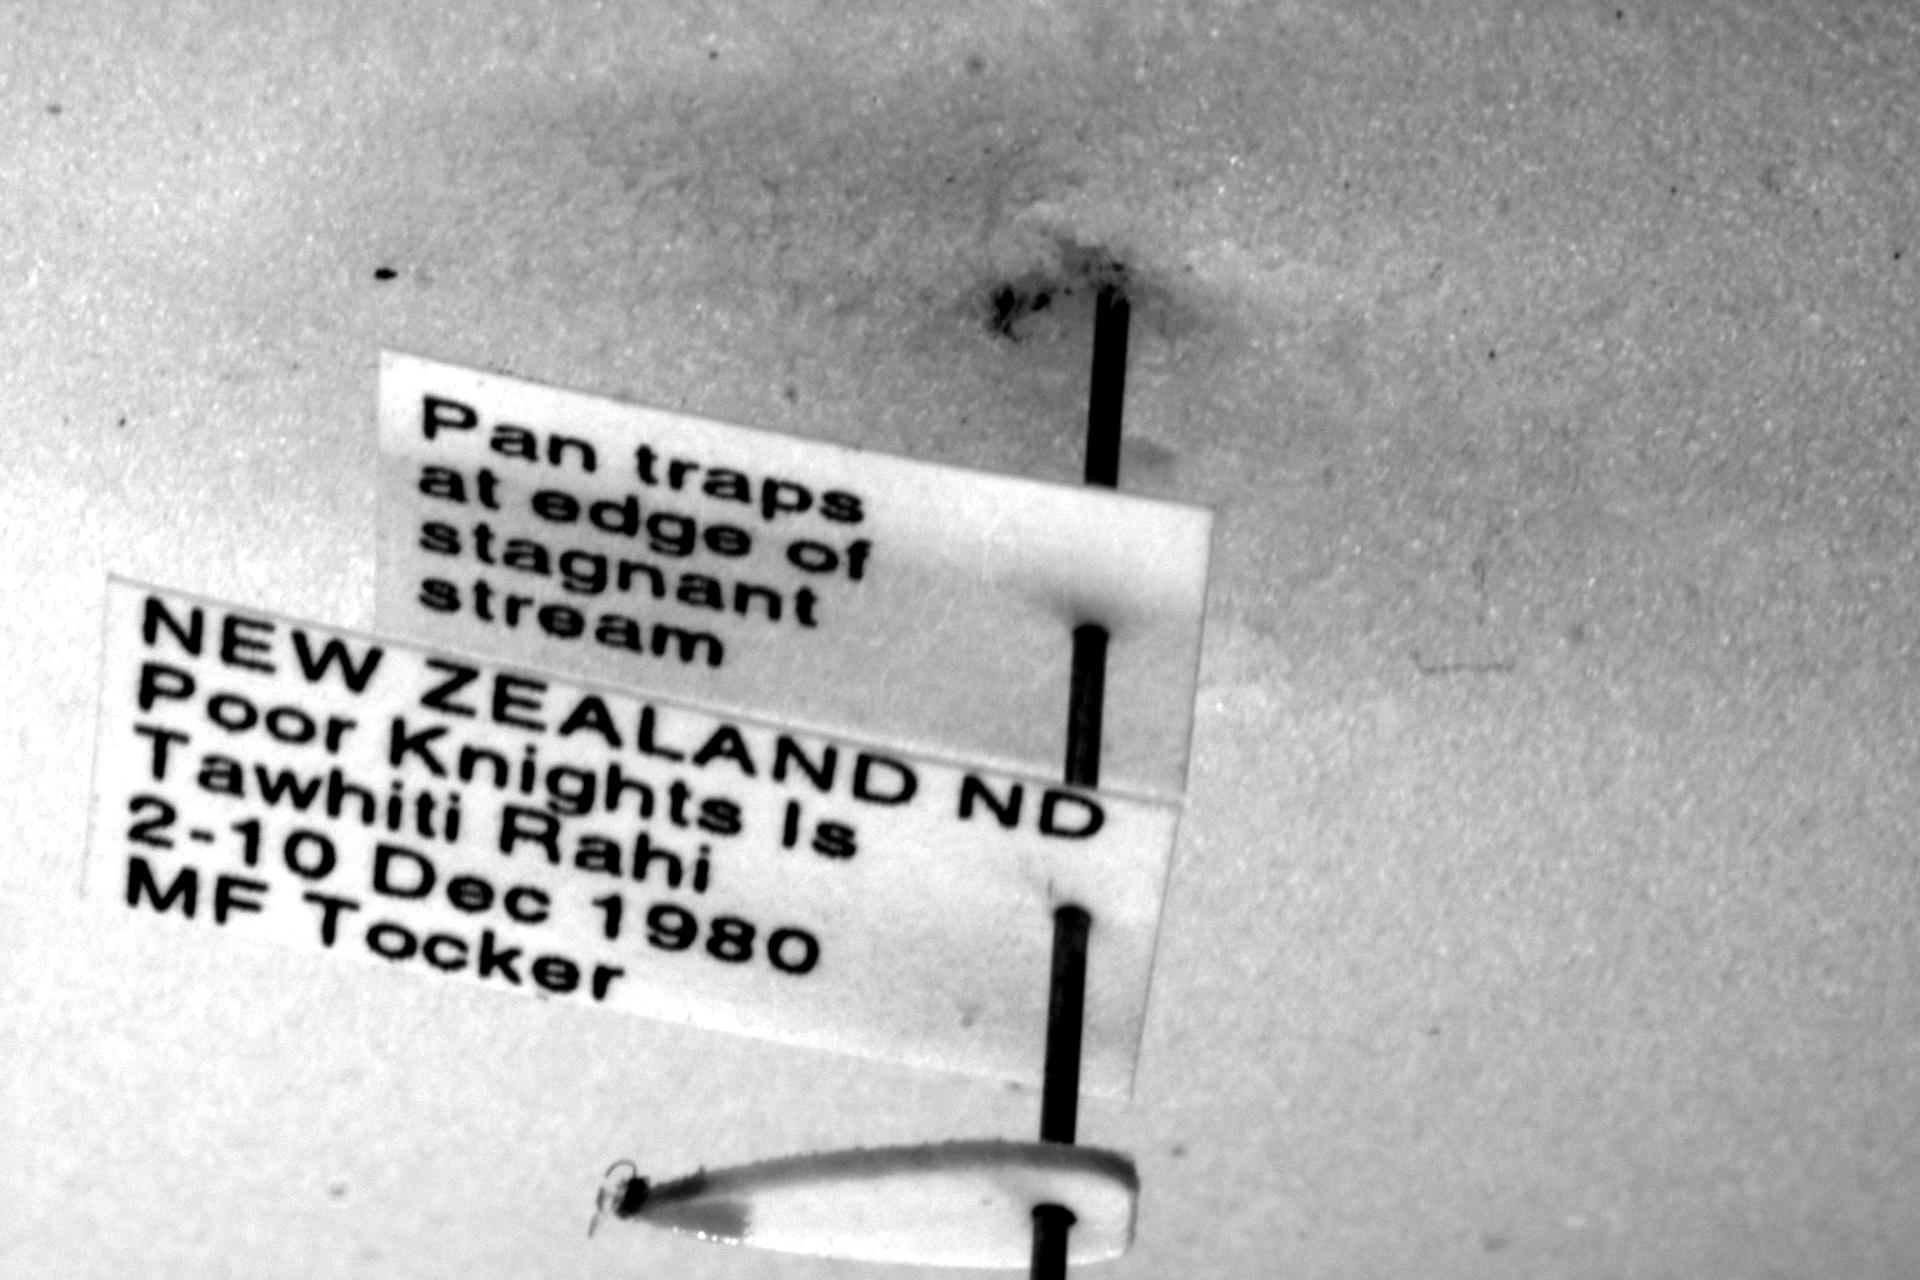typed_label: (86, 581, 1178, 1095), (379, 349, 1211, 799)
